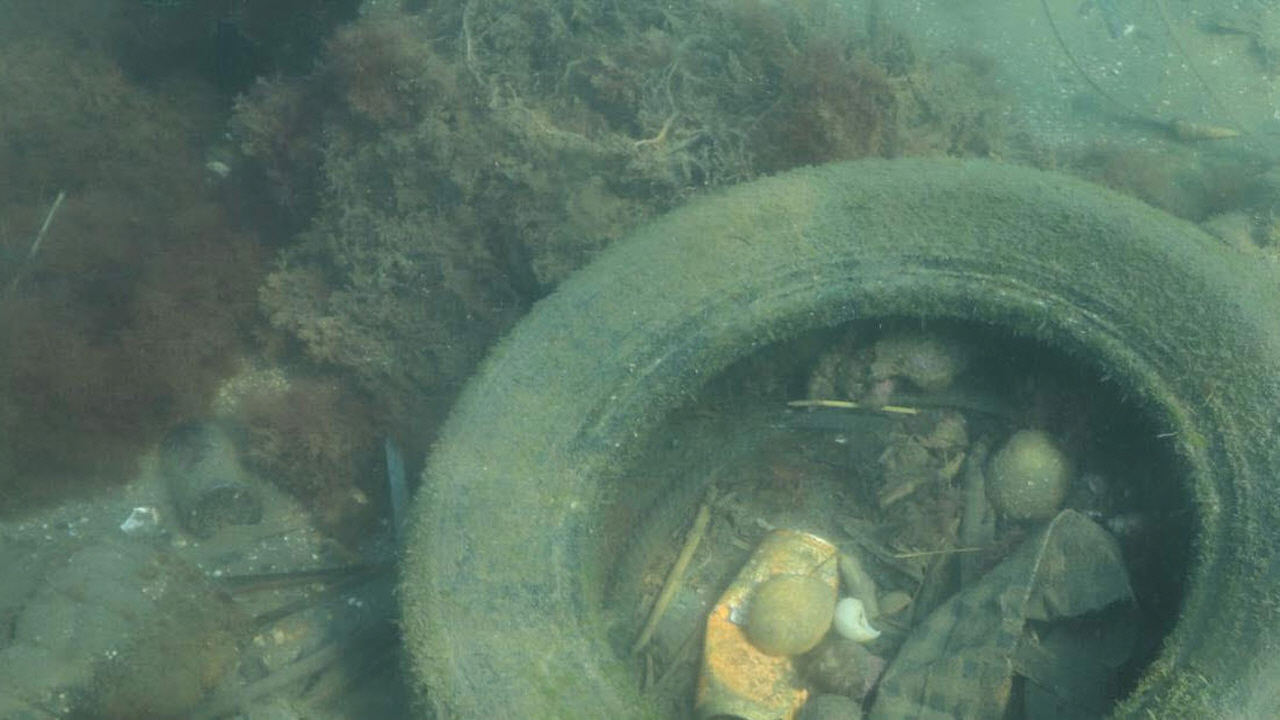tire: (398, 153, 1280, 720)
